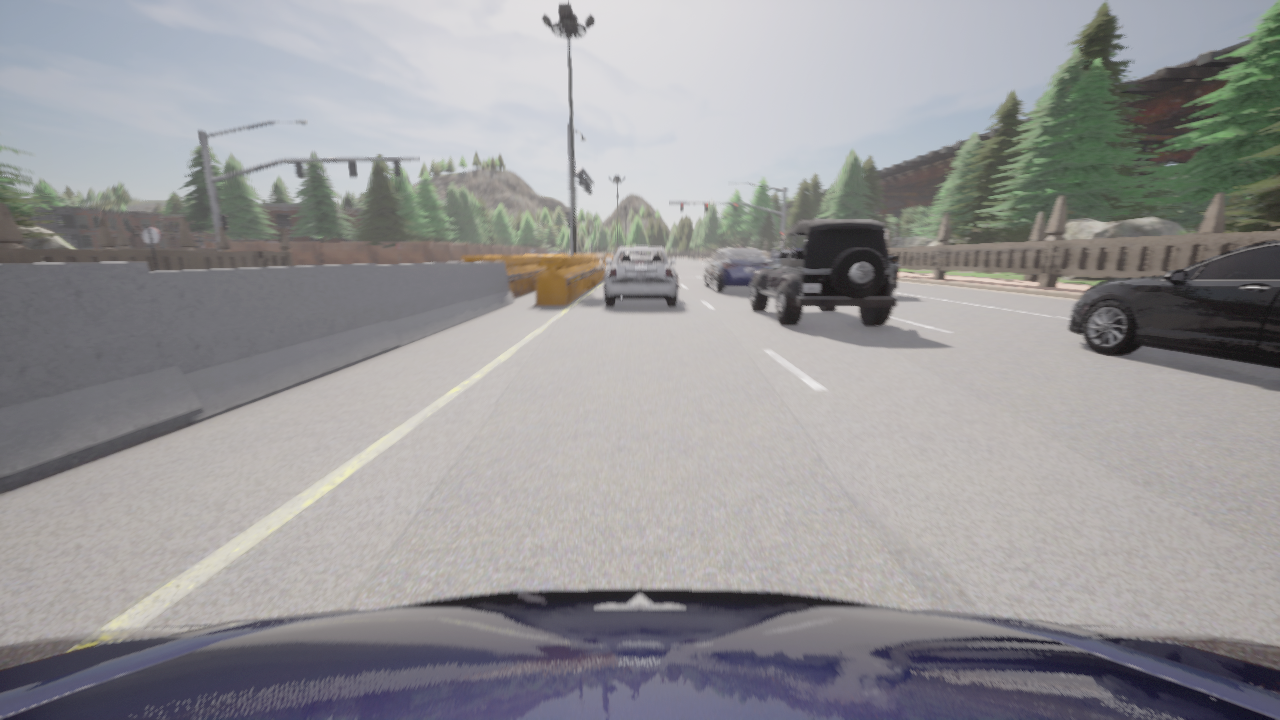cyclist: (0, 588, 1279, 719), (1069, 240, 1279, 366), (750, 220, 897, 325), (603, 247, 677, 306), (703, 249, 769, 292), (889, 254, 898, 291), (765, 252, 778, 261)
